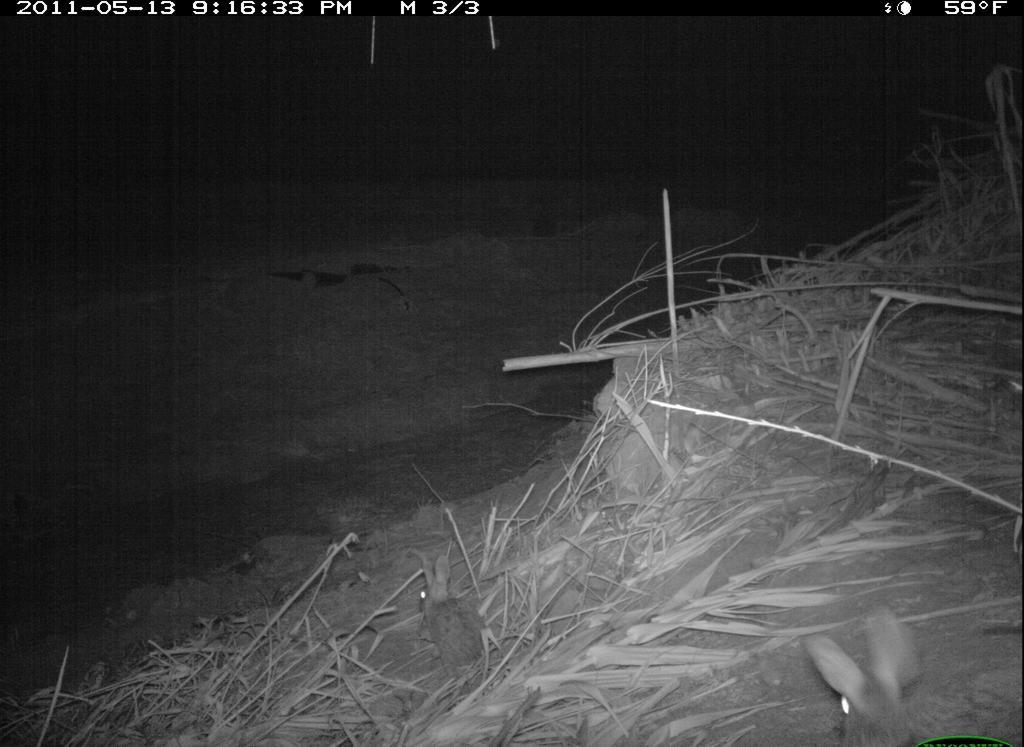rabbit: (803, 600, 1024, 747), (412, 550, 497, 680)
